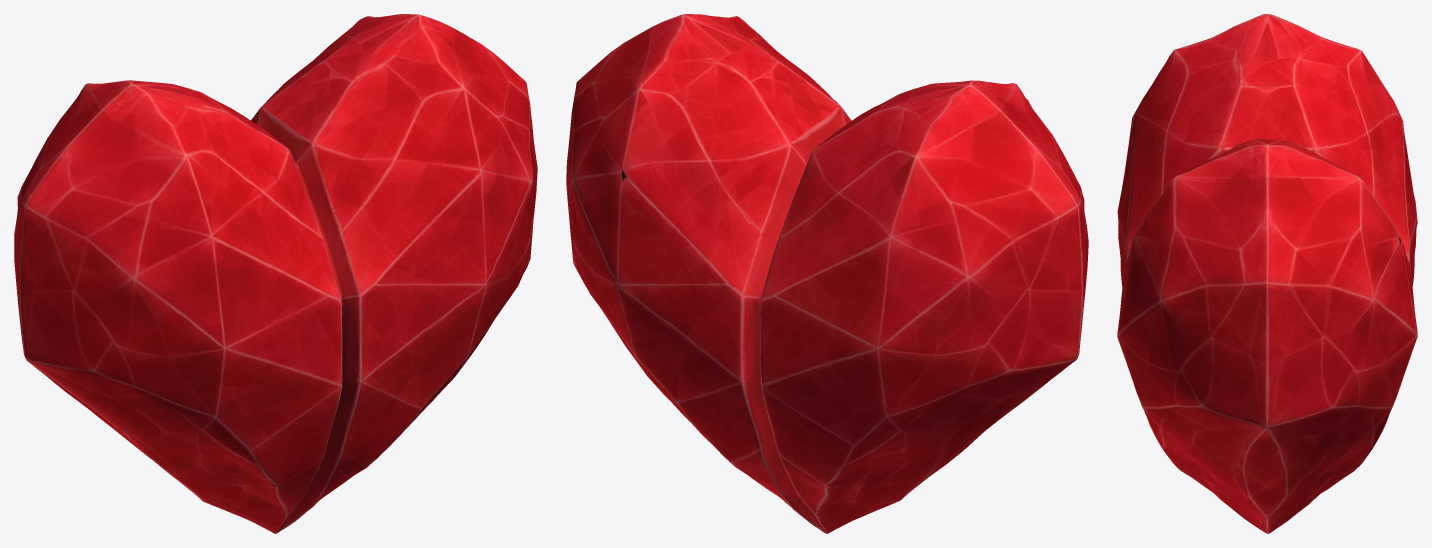
Rendered from bonus_heart_2_MEDIUM_10k.fbx.
The picture shows the model from 3 angles, left to right: view 1: azimuth 30°, elevation 25°; view 2: azimuth 150°, elevation 25°; view 3: azimuth 270°, elevation 25°; orthographic projection. The views are drawn at different scales.
Parts seen in each view (by area): view 1: HIGH; view 2: HIGH; view 3: HIGH.
Boxes of the visible parts, box(x1,y1,x2,y2) form: HIGH: box(14, 14, 537, 533); HIGH: box(566, 14, 1088, 533); HIGH: box(1117, 14, 1417, 533).
Bounding box in the file's own units: 1.9 × 1.72 × 1.03.
1 material, 1 textured.
